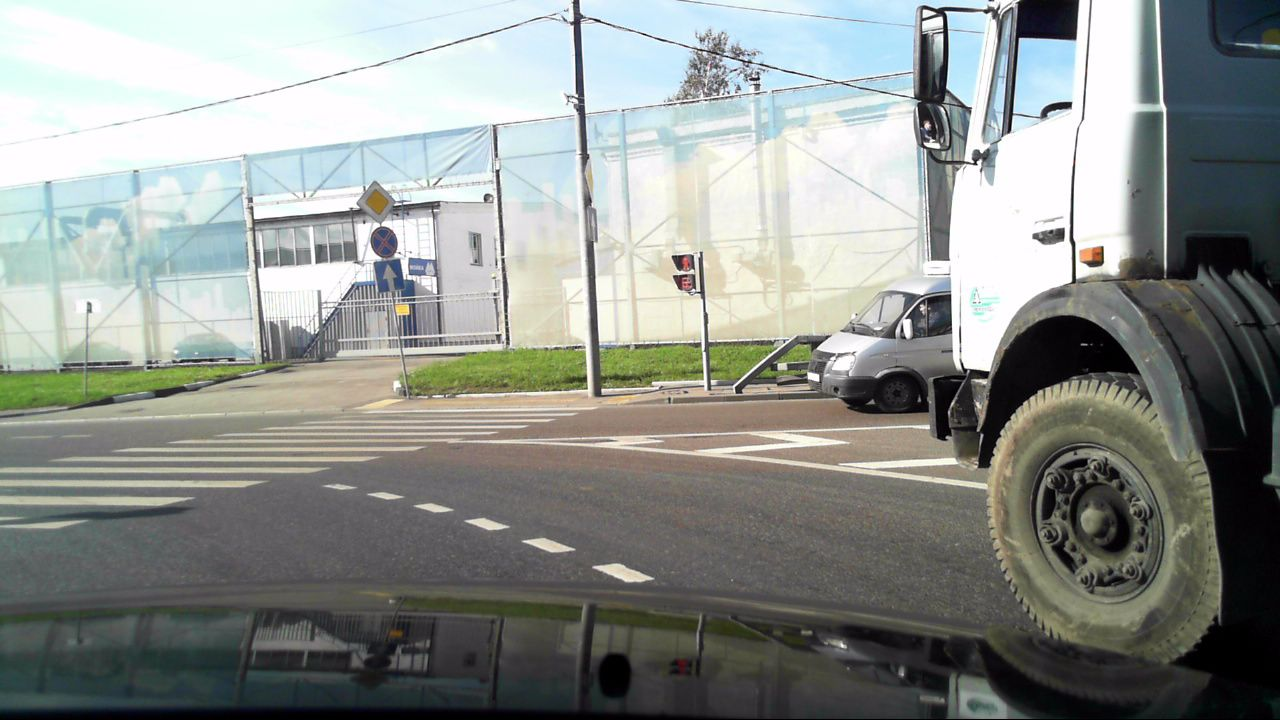No Parking: (364, 228, 406, 258)
